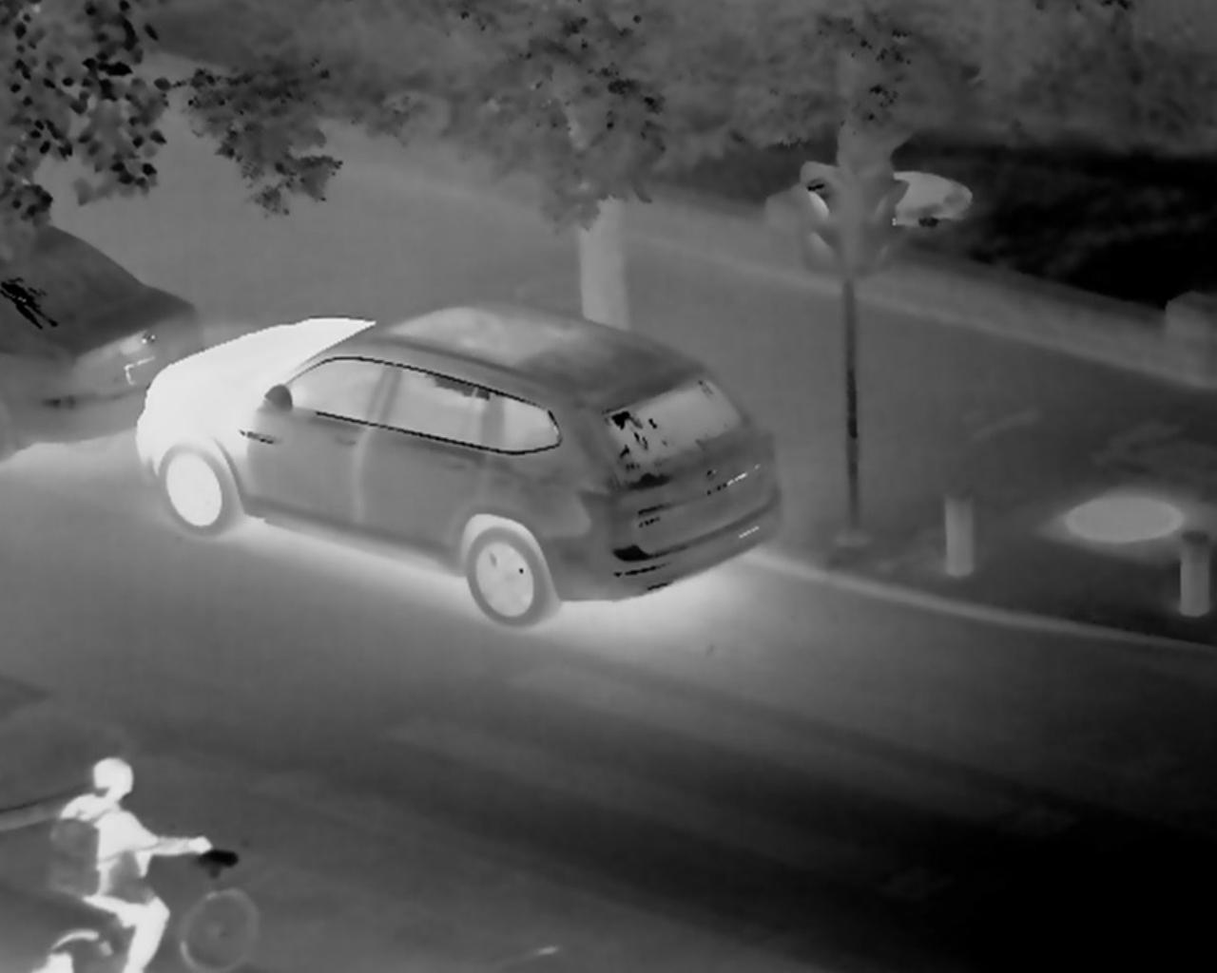person: (69, 757, 204, 973)
